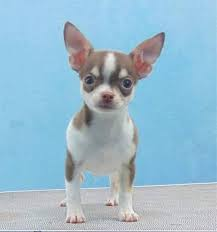chihuahua: (45, 12, 172, 225)
